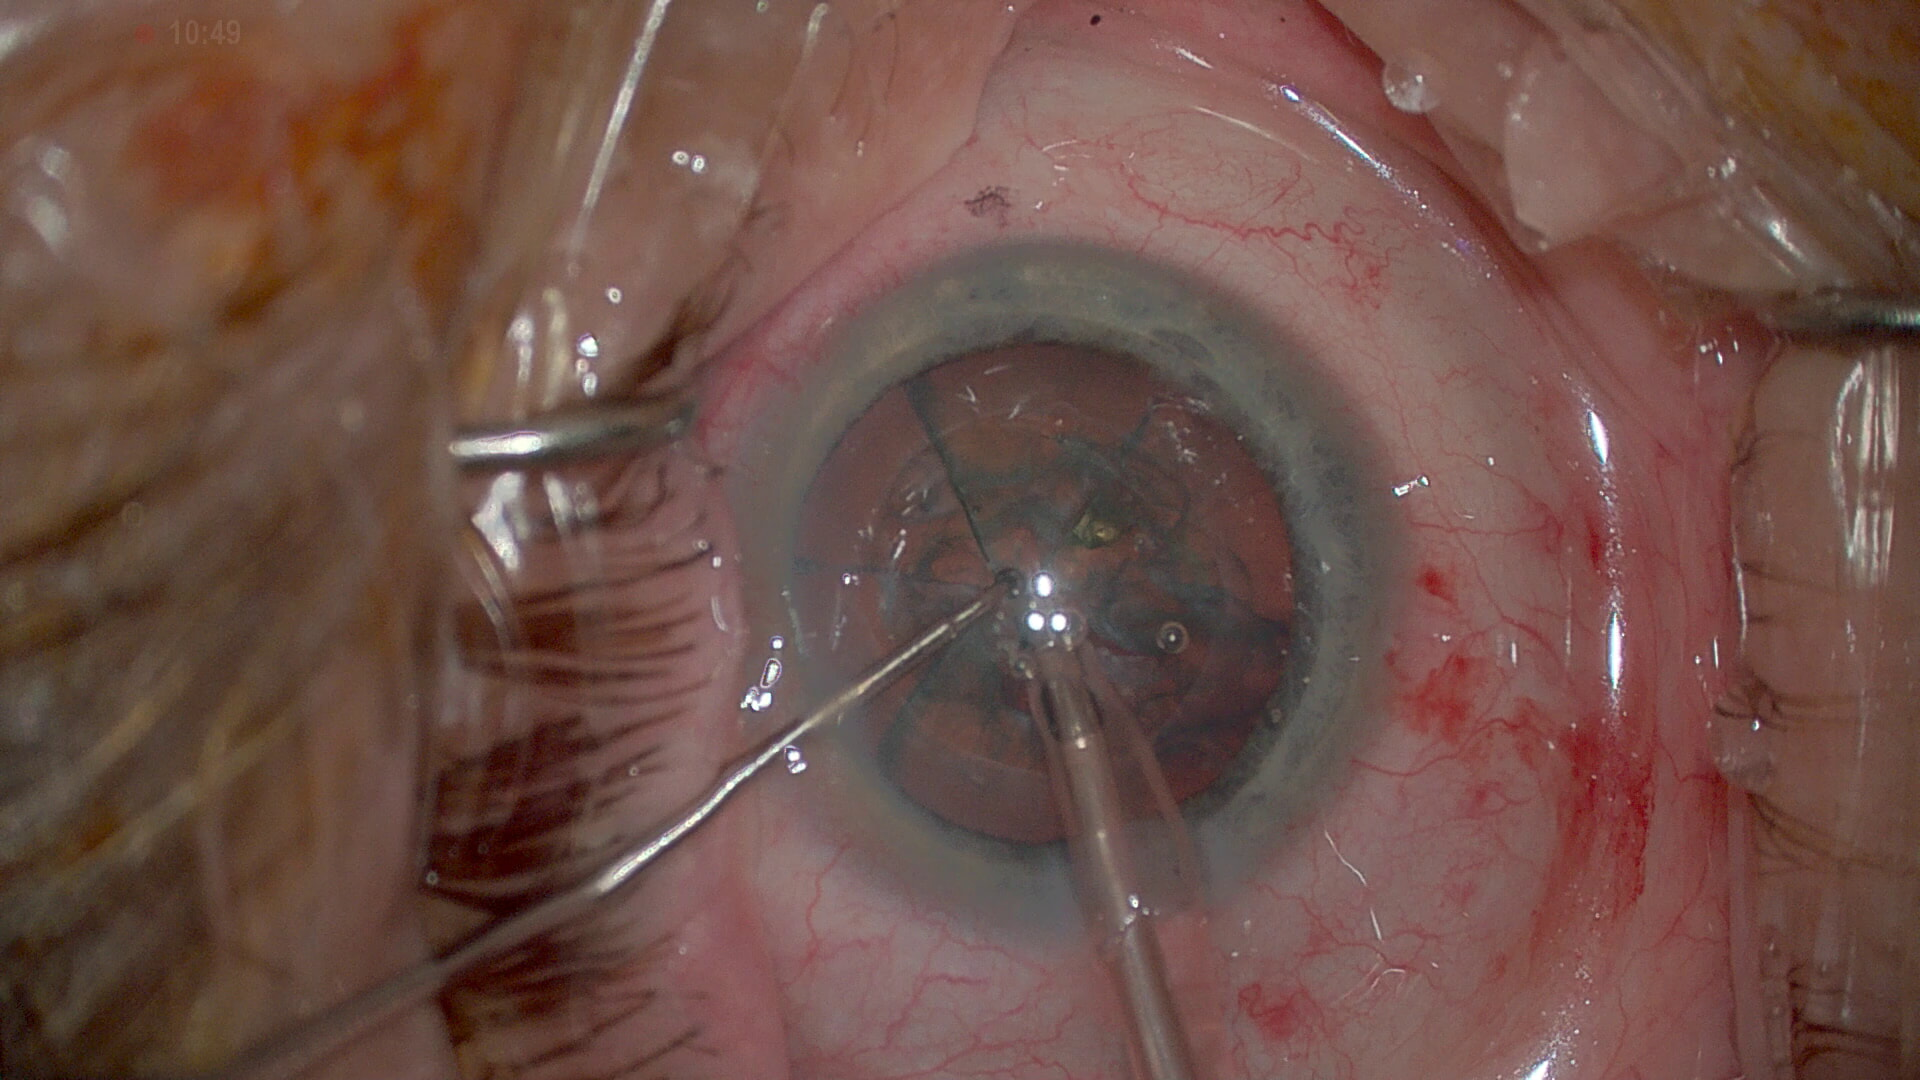iris: (740, 255, 1398, 943)
pupil: (799, 341, 1315, 861)
